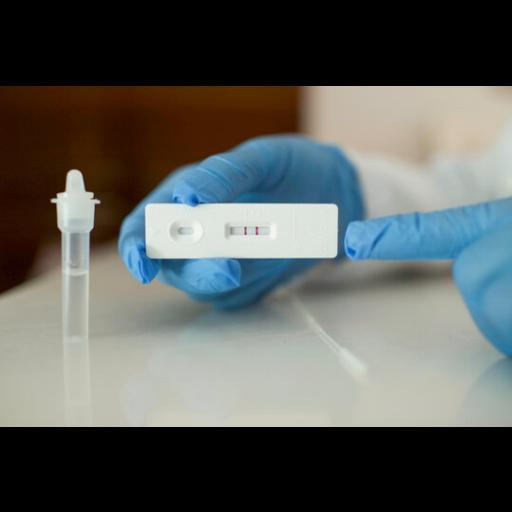Pos: (146, 204, 336, 254)
